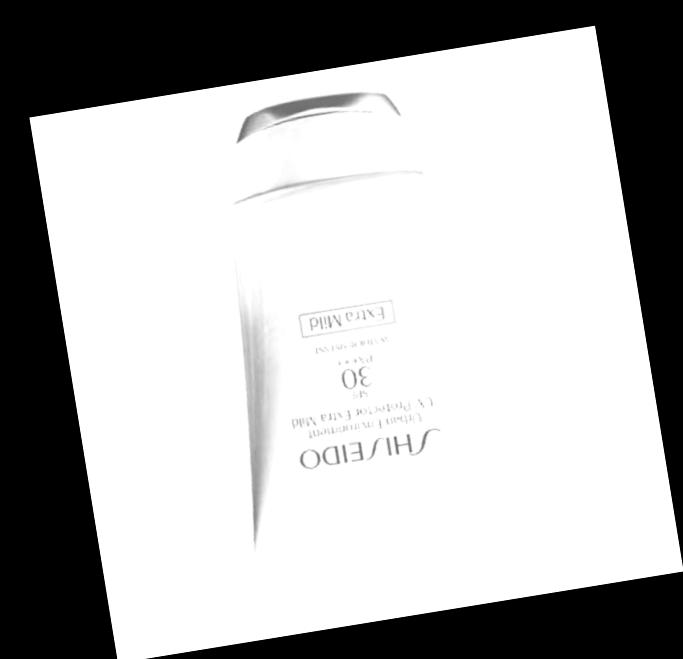cosmetic: (179, 71, 516, 576)
